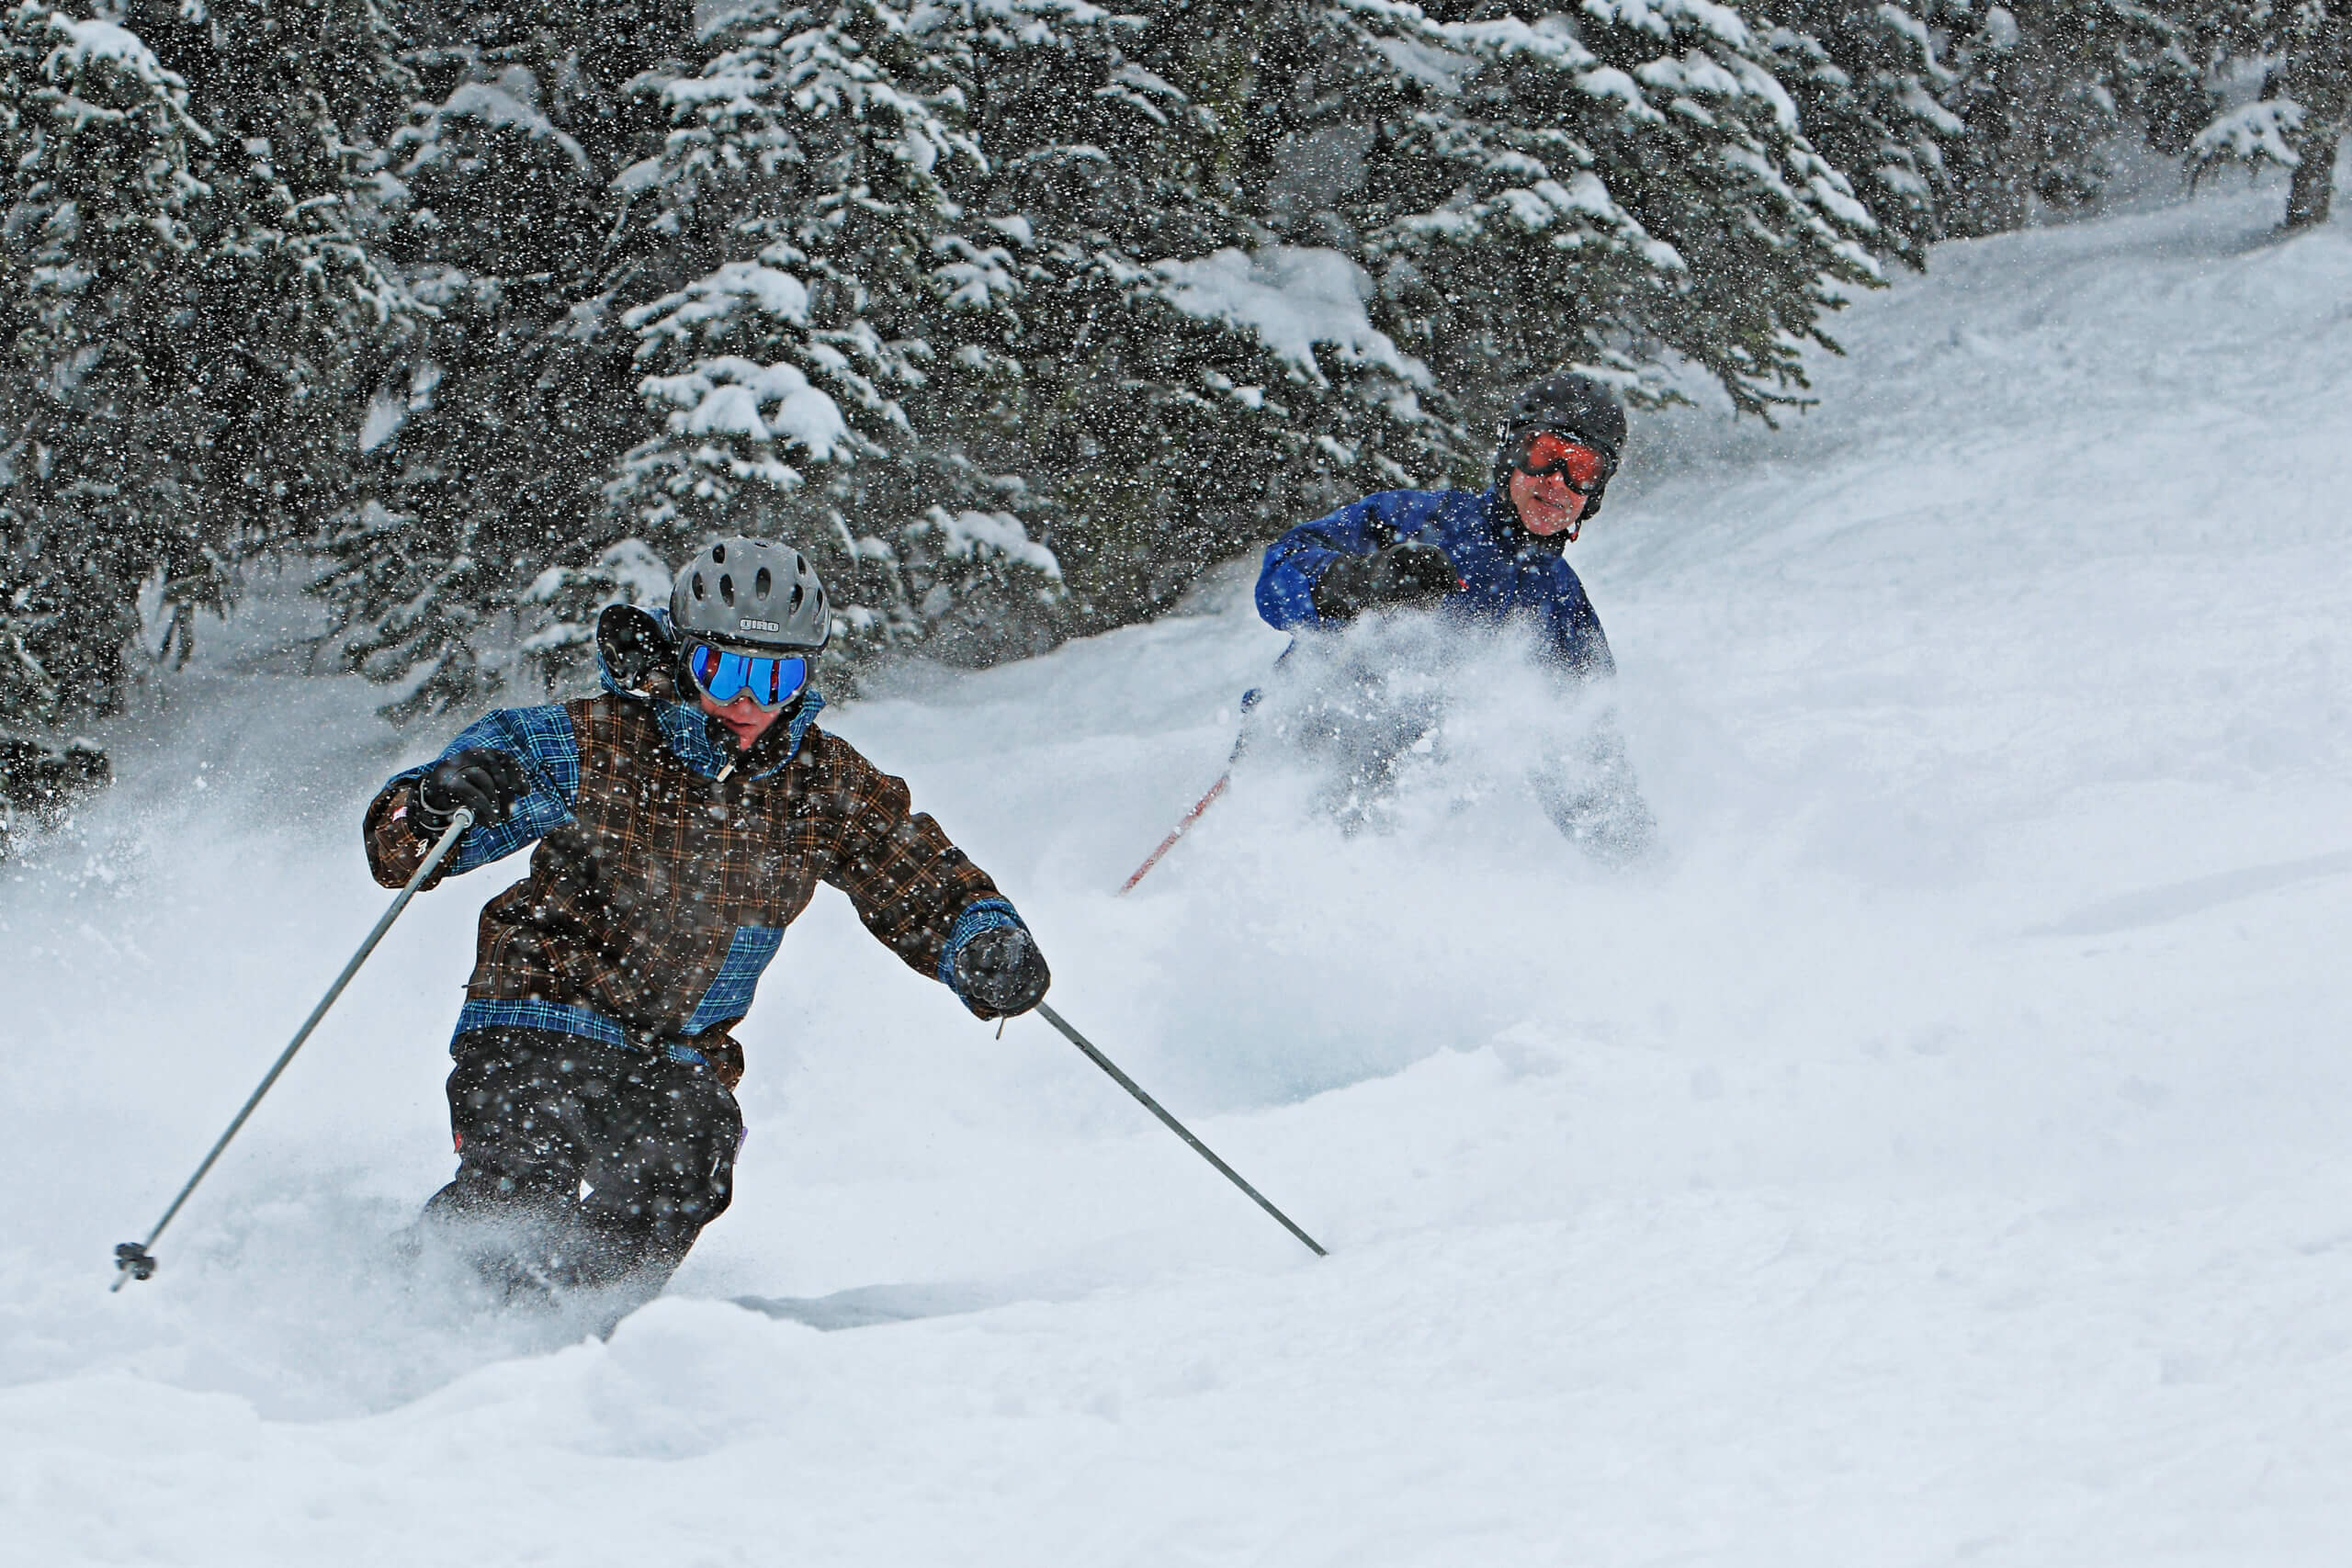skier: (266, 549, 1190, 1510), (1227, 436, 1689, 978)
